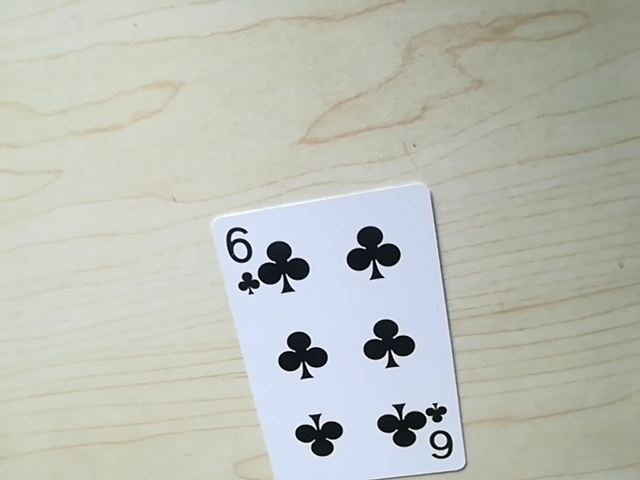mh 6: (221, 228, 262, 286), (415, 411, 454, 466)
